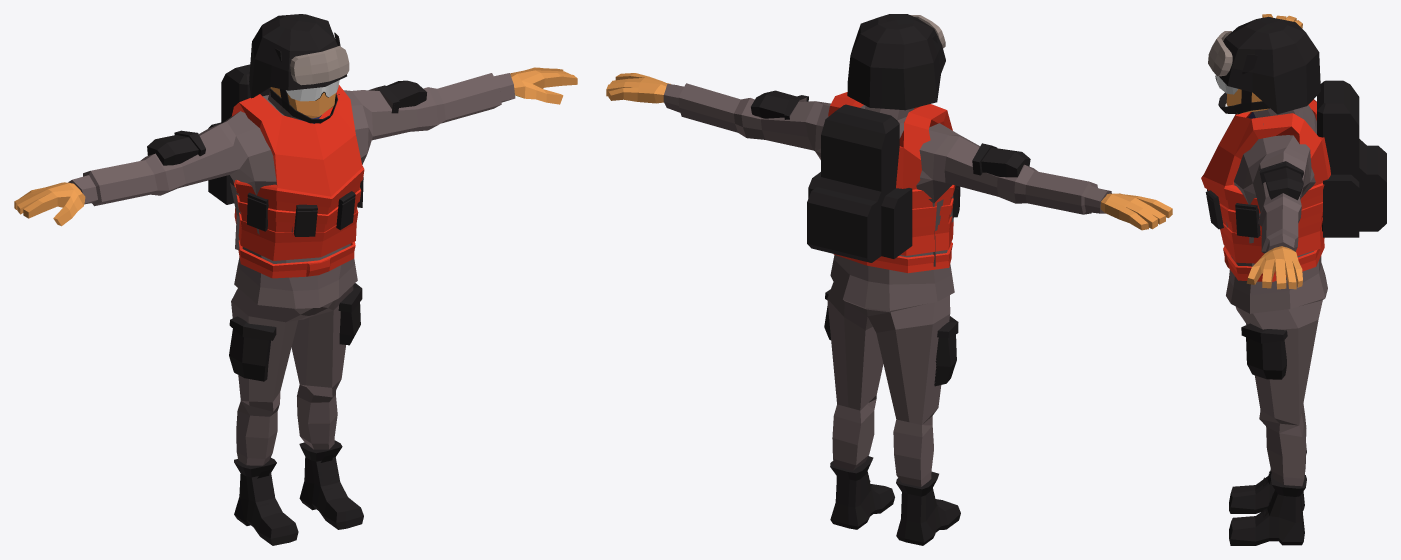
The model's file is robotmaincharcterasker_02.fbx.
3 renders of one model, left to right at view 1: azimuth 30°, elevation 25°; view 2: azimuth 150°, elevation 25°; view 3: azimuth 270°, elevation 25°, orthographic.
Visible parts, largest first — view 1: Soldat, Cube.212, Soldat.002, Cube.228, Soldat.004, Soldat.003, Cube.213, Cube.216, Cube.220, Soldat.008, Soldat.007, Plane.179; view 2: Soldat, Cube.216, Cube.228, Soldat.002, Cube.212, Soldat.004, Soldat.008, Soldat.003, Cube.213, Soldat.007; view 3: Soldat, Cube.212, Cube.216, Cube.228, Soldat.002, Soldat.003, Soldat.004, Soldat.007, Cube.213, Plane.179, Cube.220.
Boxes of the visible parts, bbox=[...] form: Soldat: bbox=[68, 73, 536, 465]; Cube.212: bbox=[231, 85, 364, 260]; Soldat.002: bbox=[234, 440, 363, 545]; Cube.228: bbox=[249, 14, 346, 98]; Soldat.004: bbox=[14, 67, 577, 226]; Soldat.003: bbox=[229, 283, 362, 381]; Cube.213: bbox=[238, 240, 355, 278]; Cube.216: bbox=[208, 64, 269, 204]; Cube.220: bbox=[290, 46, 349, 85]; Soldat.008: bbox=[147, 130, 205, 165]; Soldat.007: bbox=[369, 80, 426, 113]; Plane.179: bbox=[270, 32, 340, 123]; Soldat: bbox=[663, 83, 1111, 486]; Cube.216: bbox=[807, 104, 912, 262]; Cube.228: bbox=[847, 14, 945, 110]; Soldat.002: bbox=[830, 456, 960, 545]; Cube.212: bbox=[828, 92, 960, 255]; Soldat.004: bbox=[606, 73, 1172, 230]; Soldat.008: bbox=[972, 143, 1030, 177]; Soldat.003: bbox=[824, 289, 958, 386]; Cube.213: bbox=[833, 242, 952, 273]; Soldat.007: bbox=[751, 90, 808, 119]; Soldat: bbox=[1226, 65, 1327, 486]; Cube.212: bbox=[1201, 99, 1330, 263]; Cube.216: bbox=[1317, 80, 1386, 237]; Cube.228: bbox=[1219, 16, 1320, 114]; Soldat.002: bbox=[1229, 448, 1306, 545]; Soldat.003: bbox=[1241, 323, 1287, 379]; Soldat.004: bbox=[1246, 14, 1302, 289]; Soldat.007: bbox=[1259, 161, 1303, 200]; Cube.213: bbox=[1223, 240, 1324, 282]; Plane.179: bbox=[1218, 54, 1269, 114]; Cube.220: bbox=[1208, 31, 1232, 76].
Size of the model in its own units: 7.89 by 6.86 by 2.31.
